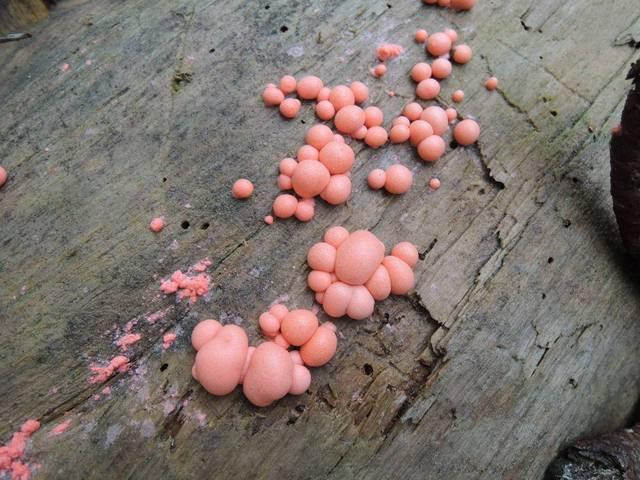Non-edible Mushroom: (187, 2, 487, 407), (189, 303, 337, 407), (305, 225, 418, 320), (190, 322, 248, 396), (242, 340, 295, 407), (333, 229, 385, 285)
